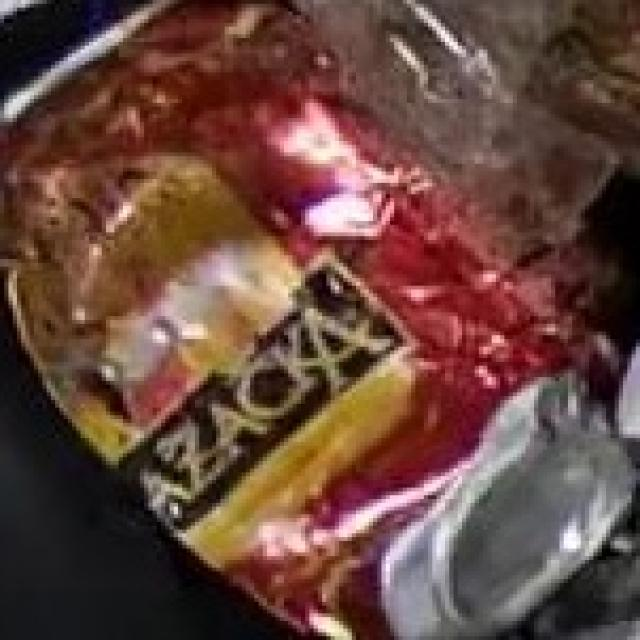can: (0, 2, 606, 640)
